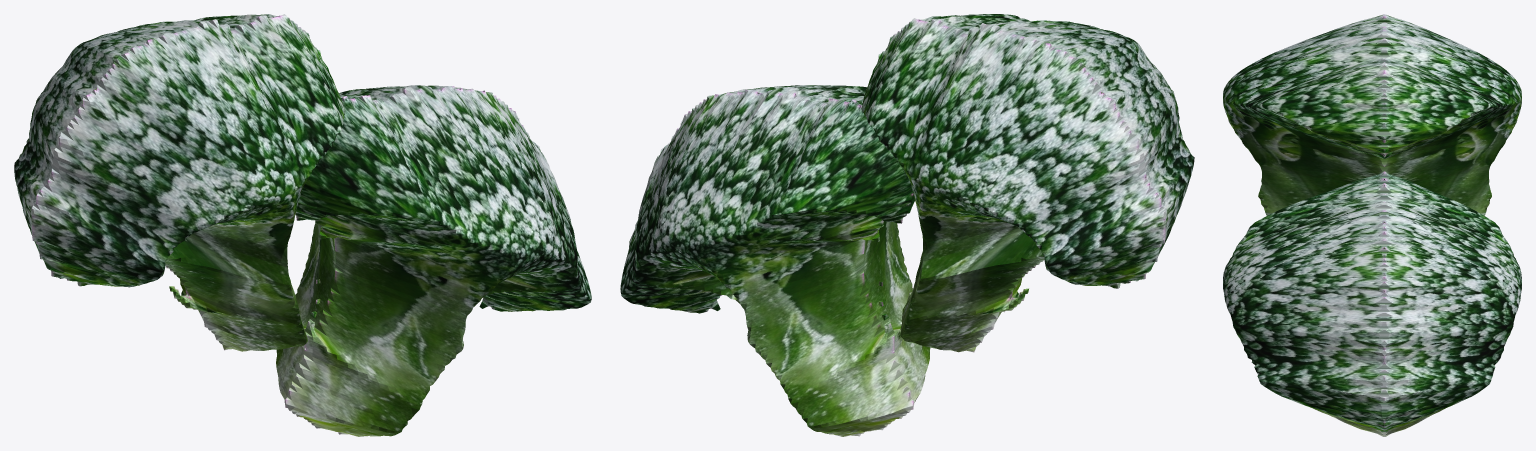
The model's file is broccoli.glb.
The picture shows the model from 3 angles, left to right: view 1: azimuth 30°, elevation 25°; view 2: azimuth 150°, elevation 25°; view 3: azimuth 270°, elevation 25°; orthographic projection. The views are drawn at different scales.
Parts seen in each view (by area): view 1: Broccoli; view 2: Broccoli; view 3: Broccoli.
Boxes of the visible parts, x1,y1,x2,y2 form: Broccoli: (14,14,591,436); Broccoli: (620,14,1194,436); Broccoli: (1223,14,1521,436).
Size of the model in its own units: 1.63 by 1.3 by 1.01.
Materials: 1 (1 with a texture image).
